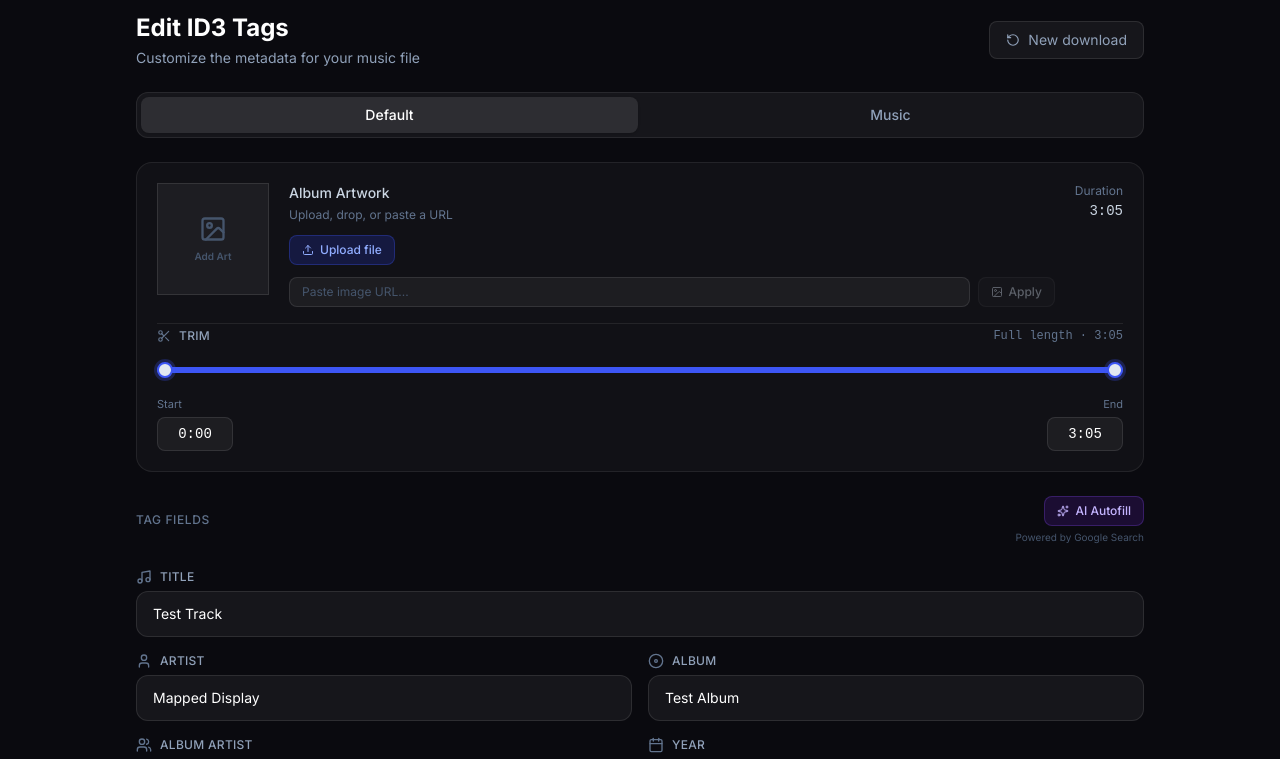
Test: TagEditor rendering › prefills display name when a mapping already exists for the channel
The image size is (1280, 759).
Click the button "music" at {"x": 890, "y": 115}, box [642,97,1139,133]
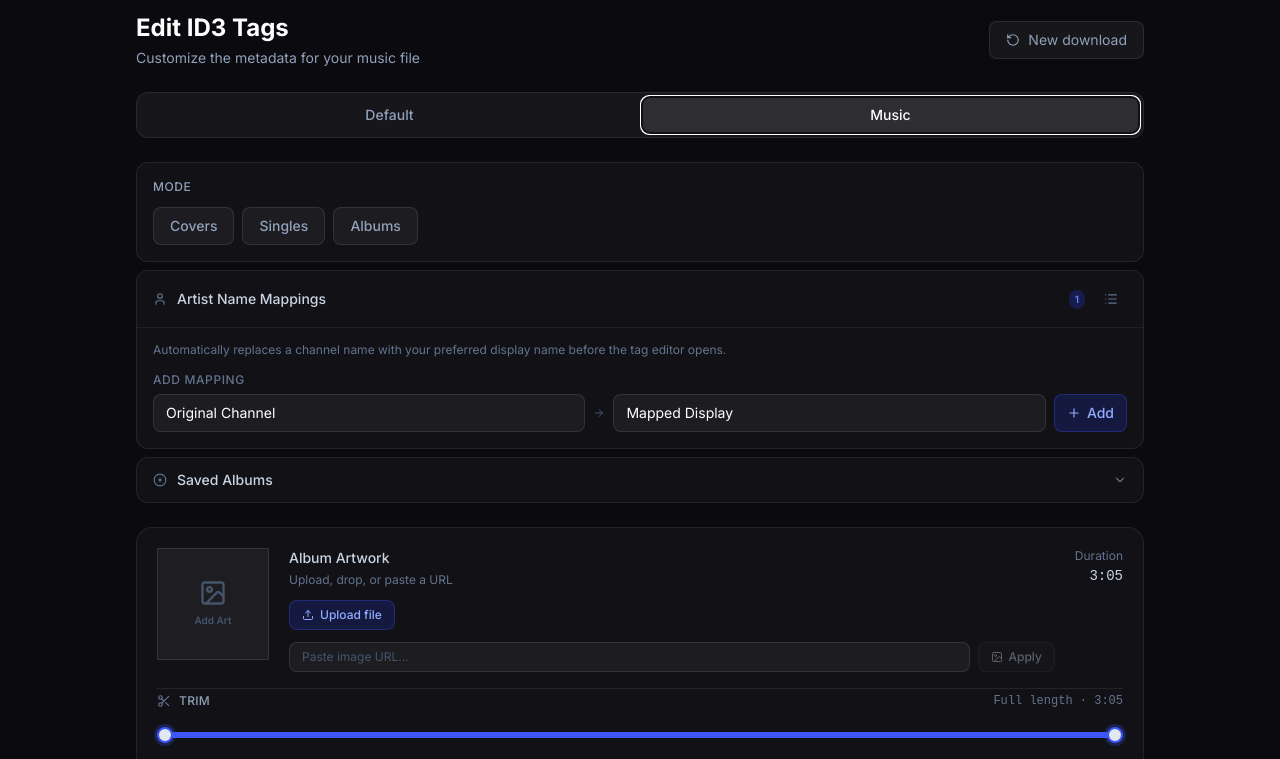
Result: the 1st field with placeholder "Channel name (exact)" holds "Original Channel" at [153,394,585,432]
Result: the 2nd field with placeholder "Display name" holds "Mapped Display" at [613,394,1046,432]
